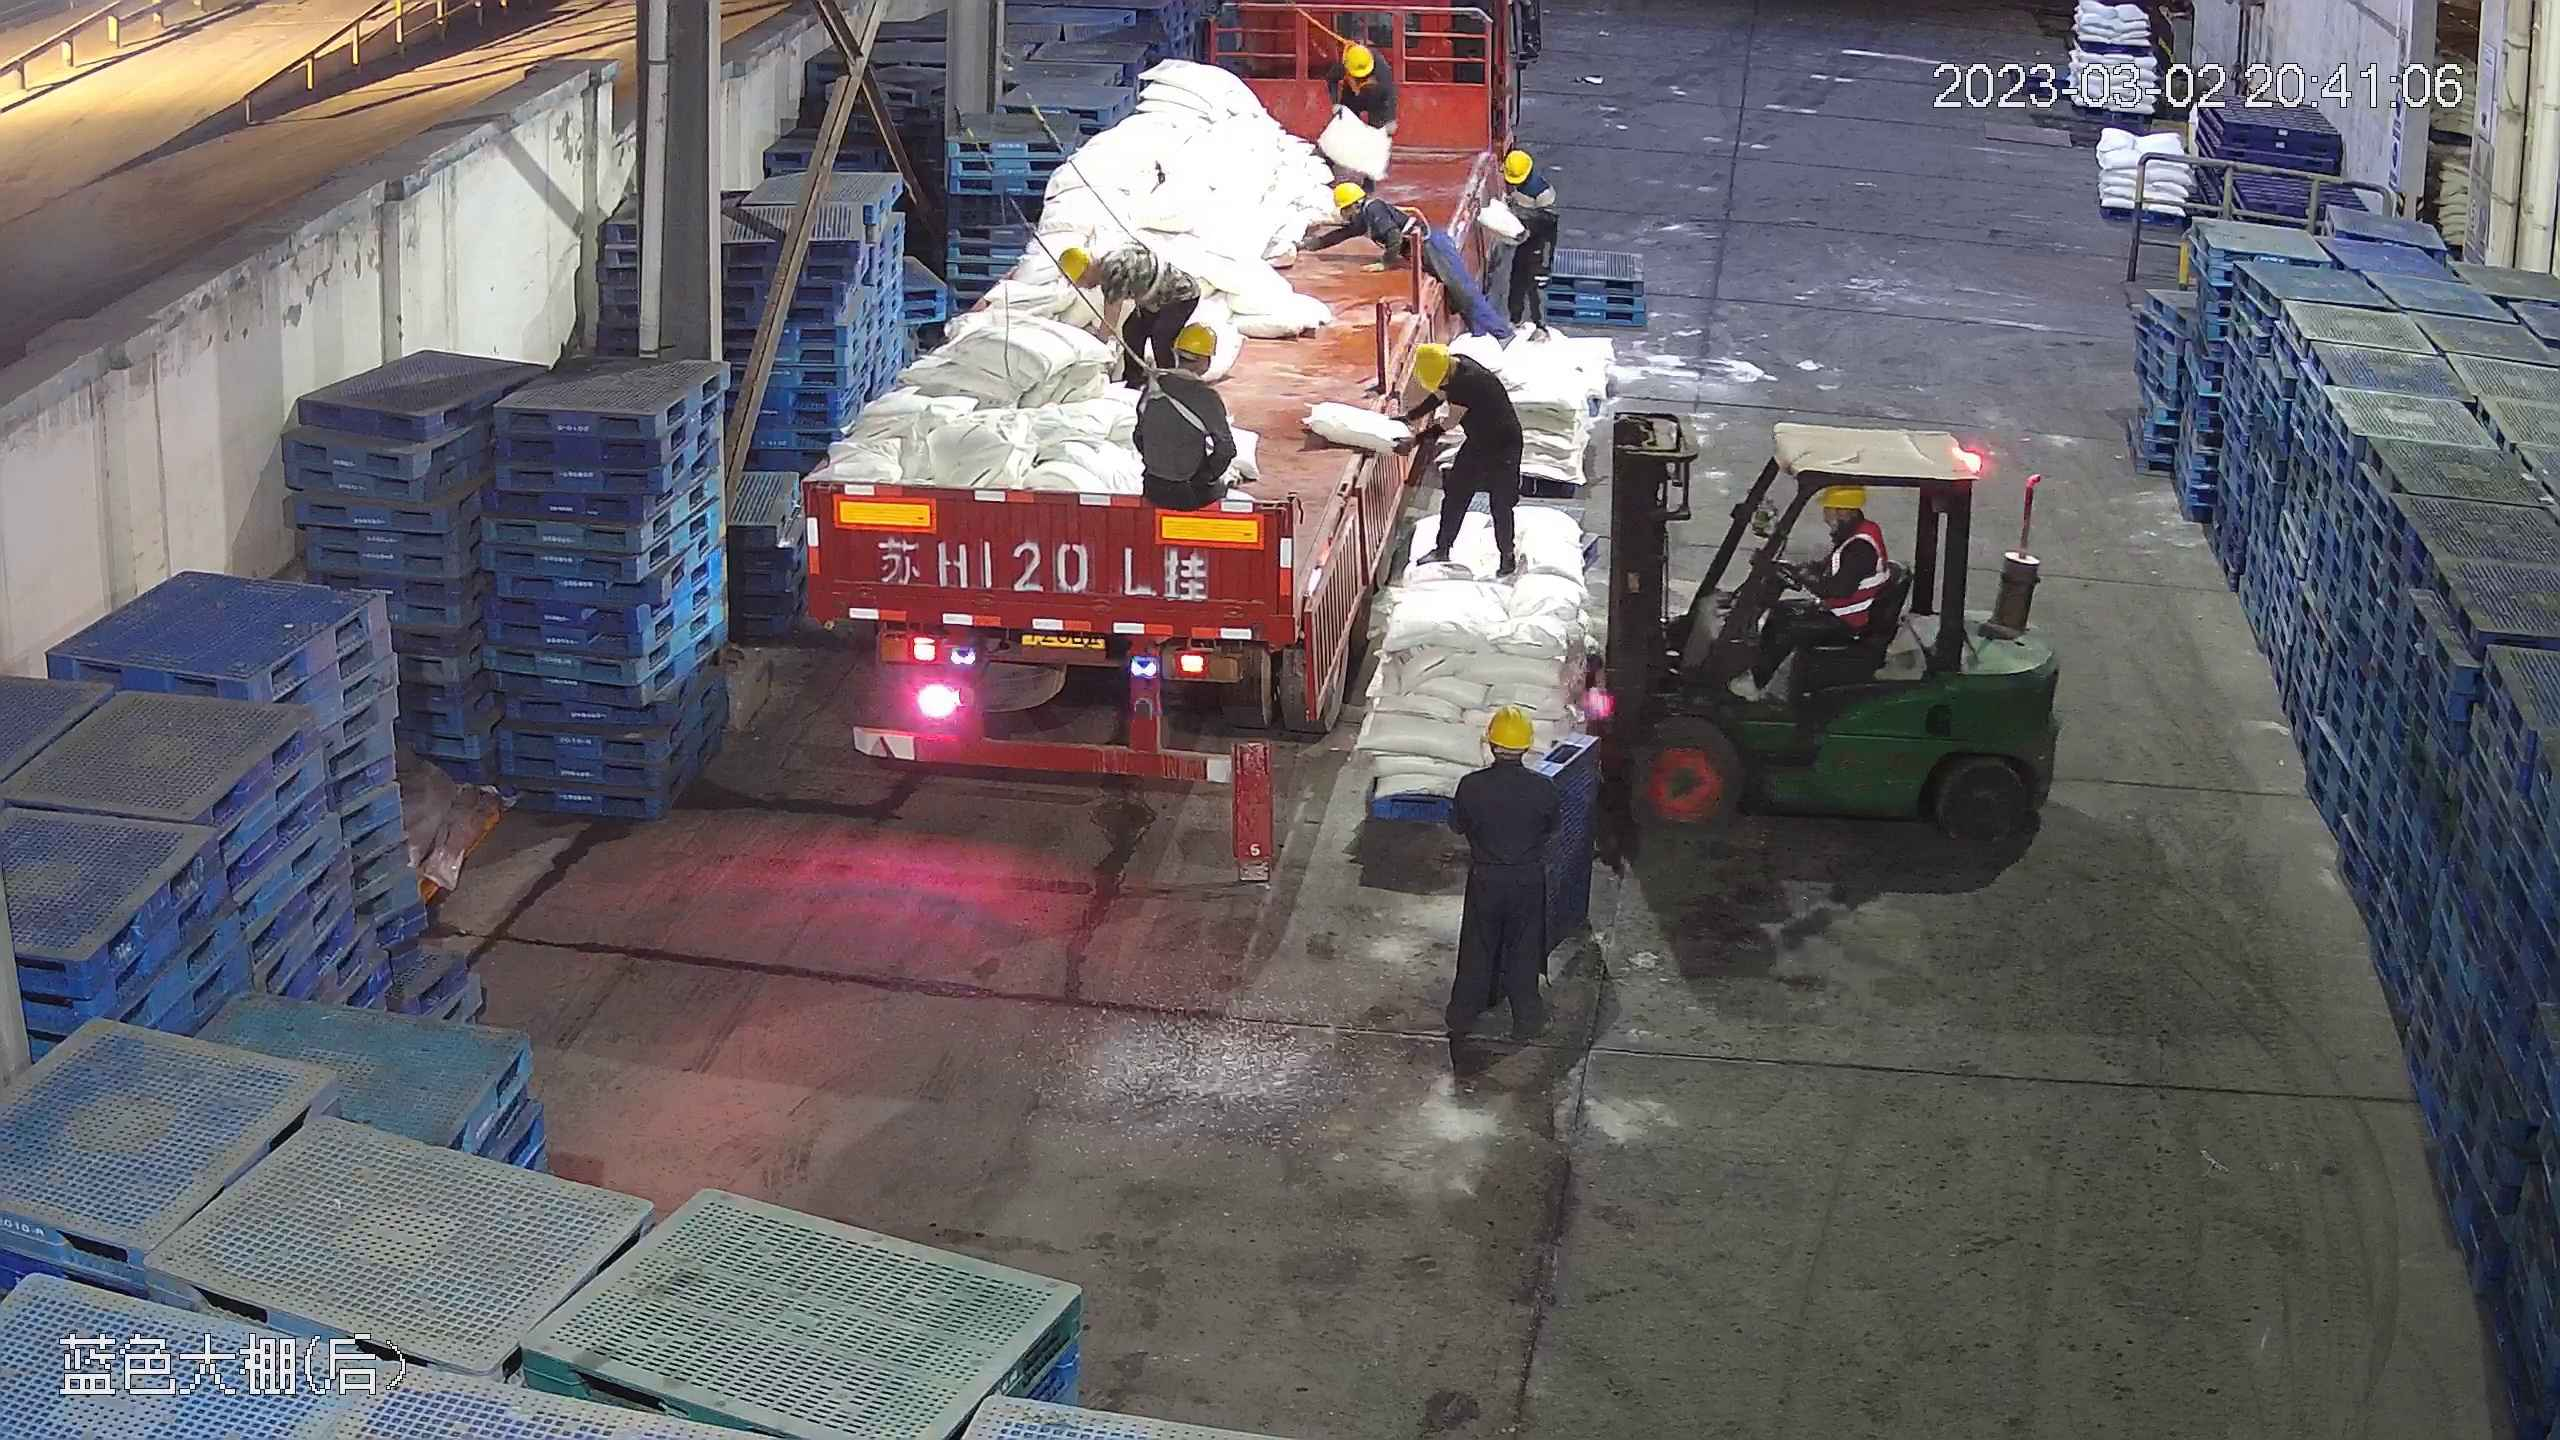belt: (1129, 353, 1215, 432), (1432, 343, 1509, 419), (1102, 244, 1171, 310), (1374, 192, 1430, 251), (1342, 69, 1379, 97), (1335, 34, 1355, 60)
head: (1450, 705, 1564, 821), (1145, 318, 1232, 416), (1404, 339, 1505, 417), (1811, 478, 1889, 573), (1057, 243, 1146, 312), (1323, 180, 1404, 239), (1484, 147, 1552, 207), (1329, 42, 1390, 92)
helmet: (1406, 338, 1454, 394), (1482, 706, 1537, 748), (1171, 319, 1219, 360), (1056, 243, 1091, 287), (1816, 481, 1867, 511), (1494, 146, 1530, 188), (1331, 180, 1369, 210), (1346, 43, 1376, 80)
people: (1440, 701, 1570, 1088), (1734, 479, 1893, 705), (1399, 334, 1526, 580), (1331, 178, 1519, 339), (1055, 237, 1212, 396), (1136, 323, 1240, 518), (1471, 144, 1558, 339), (1318, 37, 1390, 125)
truck: (808, 1, 1466, 792)
